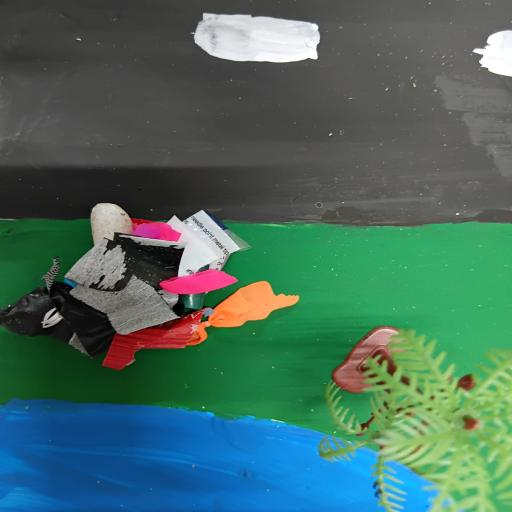trash: (3, 200, 305, 378)
